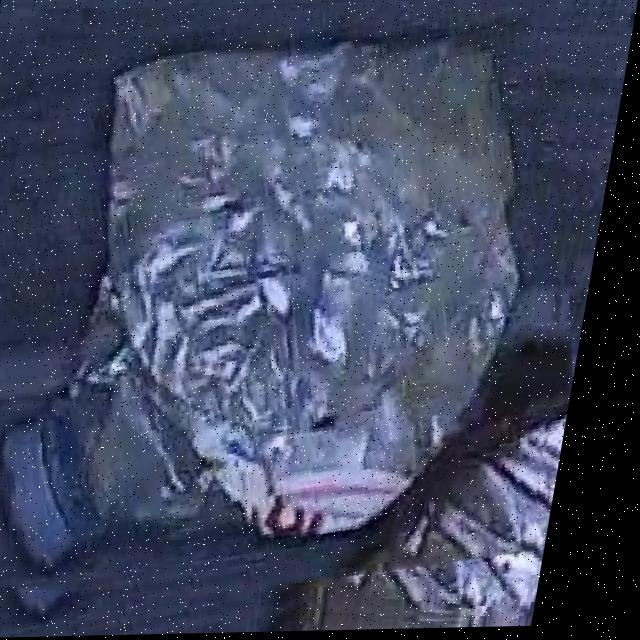plasticbottle: (0, 1, 572, 605)
